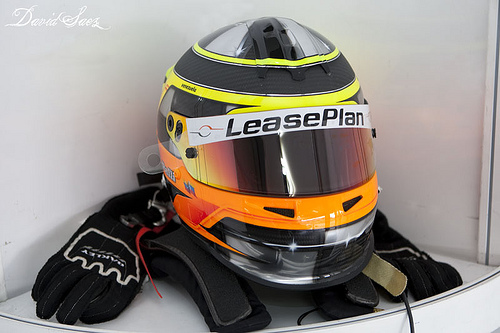helmet: (150, 24, 390, 289)
